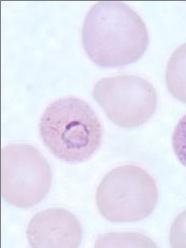Infected: (41, 98, 104, 163)
Uninfected: (83, 0, 148, 67), (96, 164, 158, 221), (94, 75, 157, 127), (0, 143, 49, 207), (25, 209, 79, 248)
